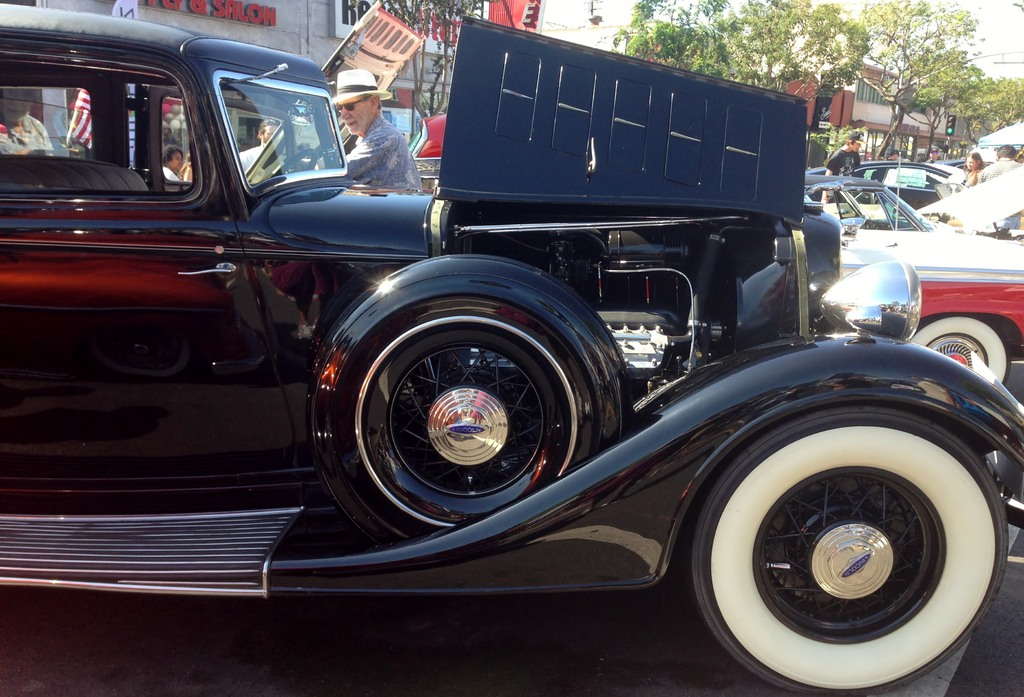mobil: (1, 13, 1011, 681)
